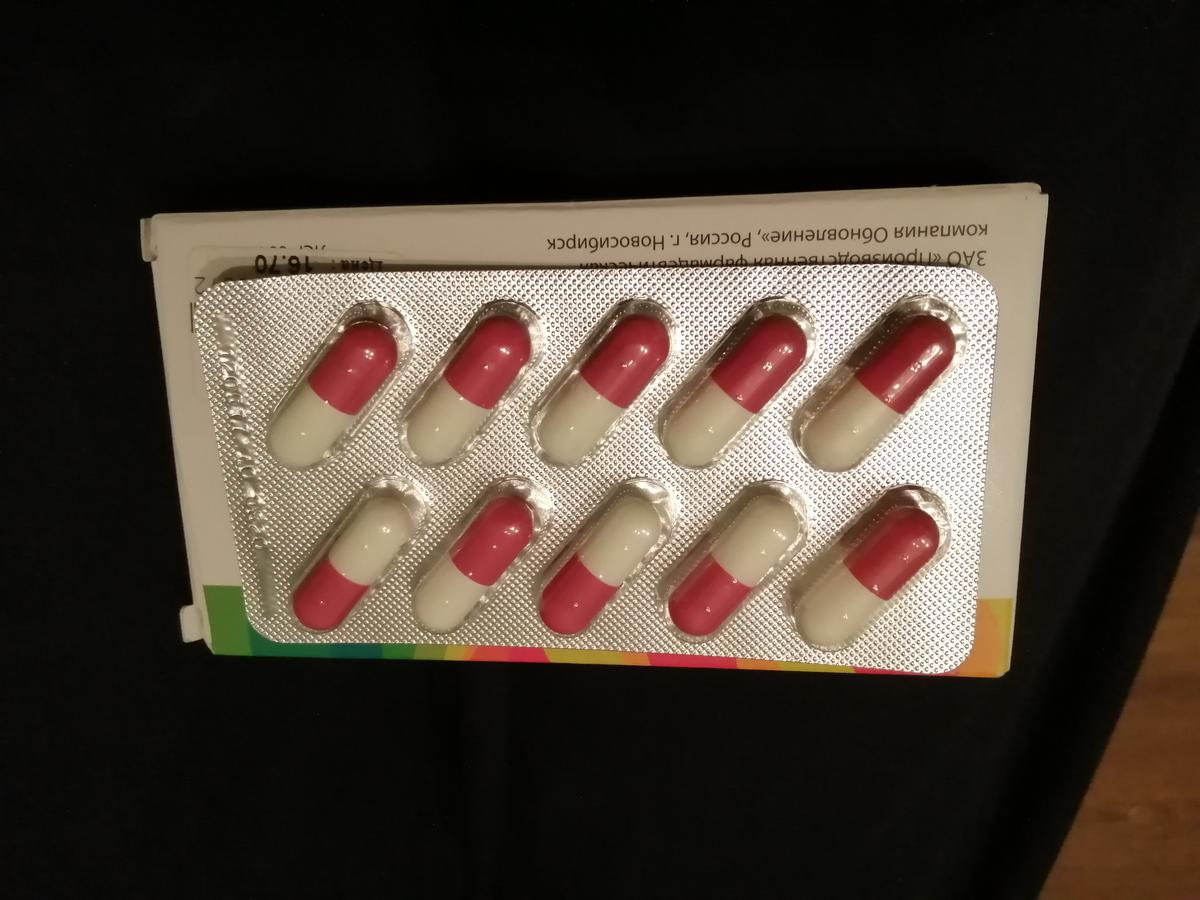capsule: (797, 314, 958, 474), (666, 309, 810, 468), (535, 306, 673, 468), (266, 315, 401, 476), (402, 309, 538, 465), (665, 486, 807, 635), (796, 503, 942, 644), (538, 479, 661, 635), (289, 485, 416, 636), (417, 488, 532, 632)
